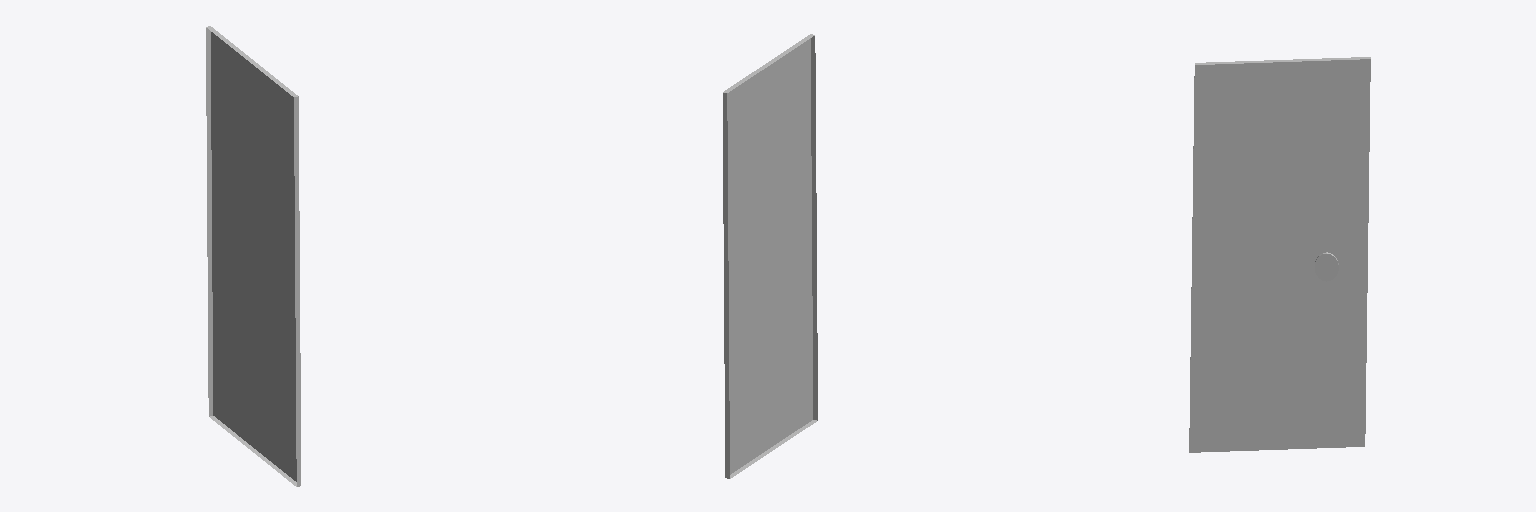
The model's file is AlaPuerta1.obj.
The picture shows the model from 3 angles: view 1: azimuth 30°, elevation 25°; view 2: azimuth 150°, elevation 25°; view 3: azimuth 270°, elevation 25°; orthographic projection.
Visible parts, largest first — view 1: polySurface256; view 2: polySurface256; view 3: polySurface256.
Boxes of the visible parts, <box> form: polySurface256: <box>206,26,300,486</box>; polySurface256: <box>723,34,817,478</box>; polySurface256: <box>1189,57,1370,452</box>.
Size of the model in its own units: 0.0475 by 1.9 by 0.793.